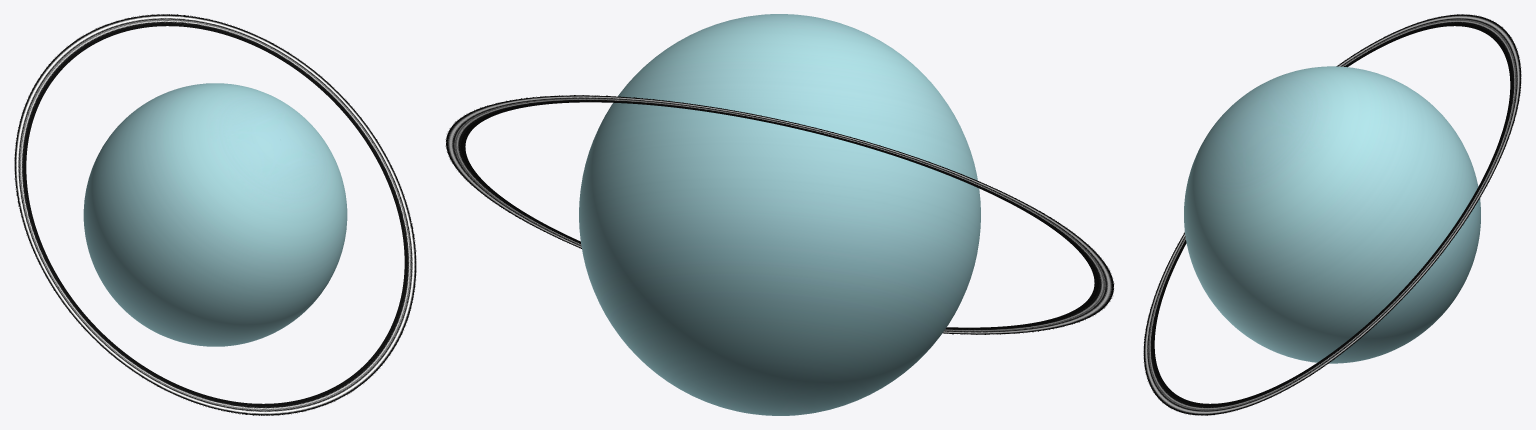
File: uranus.gltf
3 renders of one model, left to right at view 1: azimuth 30°, elevation 25°; view 2: azimuth 150°, elevation 25°; view 3: azimuth 270°, elevation 25°, orthographic. The views are drawn at different scales.
Visible parts, largest first — view 1: Sphere_Material_0, Circle_Material.003_0; view 2: Sphere_Material_0, Circle_Material.003_0; view 3: Sphere_Material_0, Circle_Material.003_0.
Boxes of the visible parts, x1,y1,x2,y2 form: Sphere_Material_0: [83, 83, 347, 346]; Circle_Material.003_0: [14, 14, 416, 415]; Sphere_Material_0: [579, 14, 980, 415]; Circle_Material.003_0: [445, 95, 1114, 334]; Sphere_Material_0: [1184, 66, 1480, 363]; Circle_Material.003_0: [1143, 14, 1521, 415].
Bounding box in the file's own units: 1.69 × 1.16 × 1.27.
2 materials, 2 textured.
